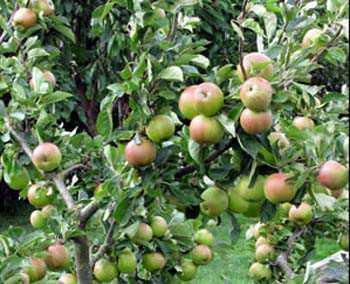apple: (177, 81, 224, 120), (238, 76, 273, 112), (124, 130, 157, 167), (189, 114, 224, 145), (263, 171, 295, 202), (30, 141, 62, 172), (317, 160, 348, 190), (240, 51, 273, 79), (145, 113, 174, 143), (200, 186, 229, 216), (240, 107, 272, 134), (124, 221, 153, 244), (11, 7, 36, 28), (149, 216, 170, 237)
